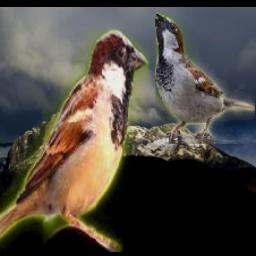Sparrow: (0, 30, 150, 253), (155, 13, 255, 145)
